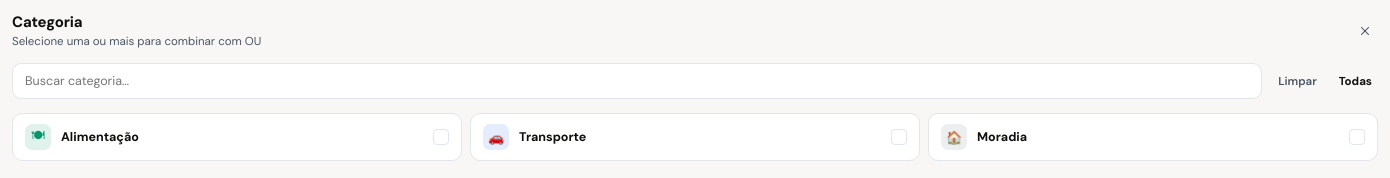
<CategoryPanel> › busca filtra a grade
Type "alim" into the field labelled "Buscar categoria…". click: (637, 81)
box: [12, 63, 1262, 99]
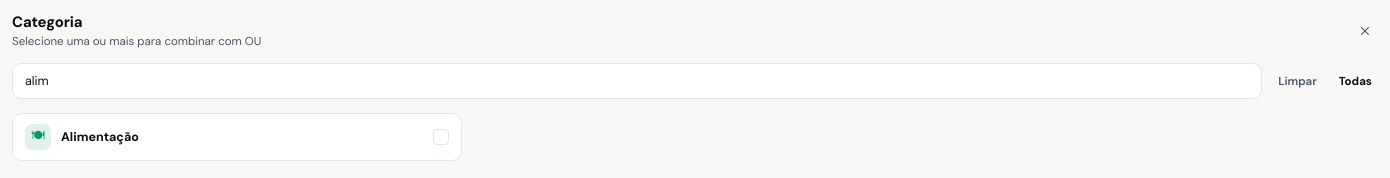
Expected: the button "🍽 Alimentação" is shown, [12, 113, 462, 161]
Now the button "Transporte" is gone
